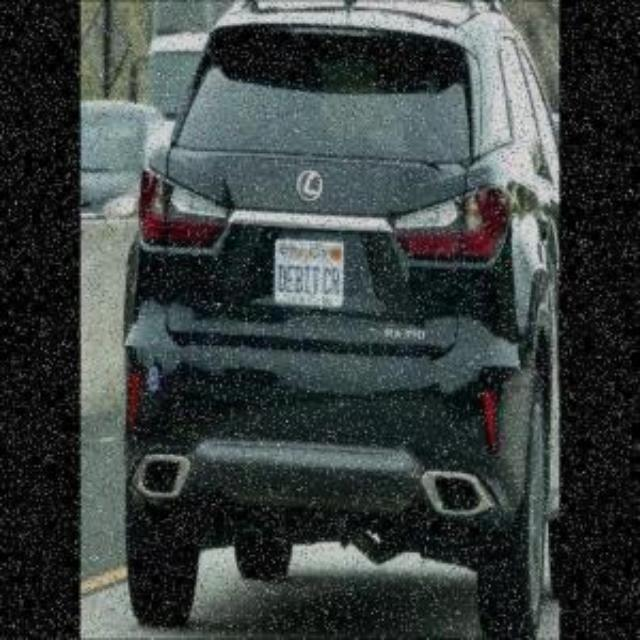license_plate: (274, 234, 346, 306)
